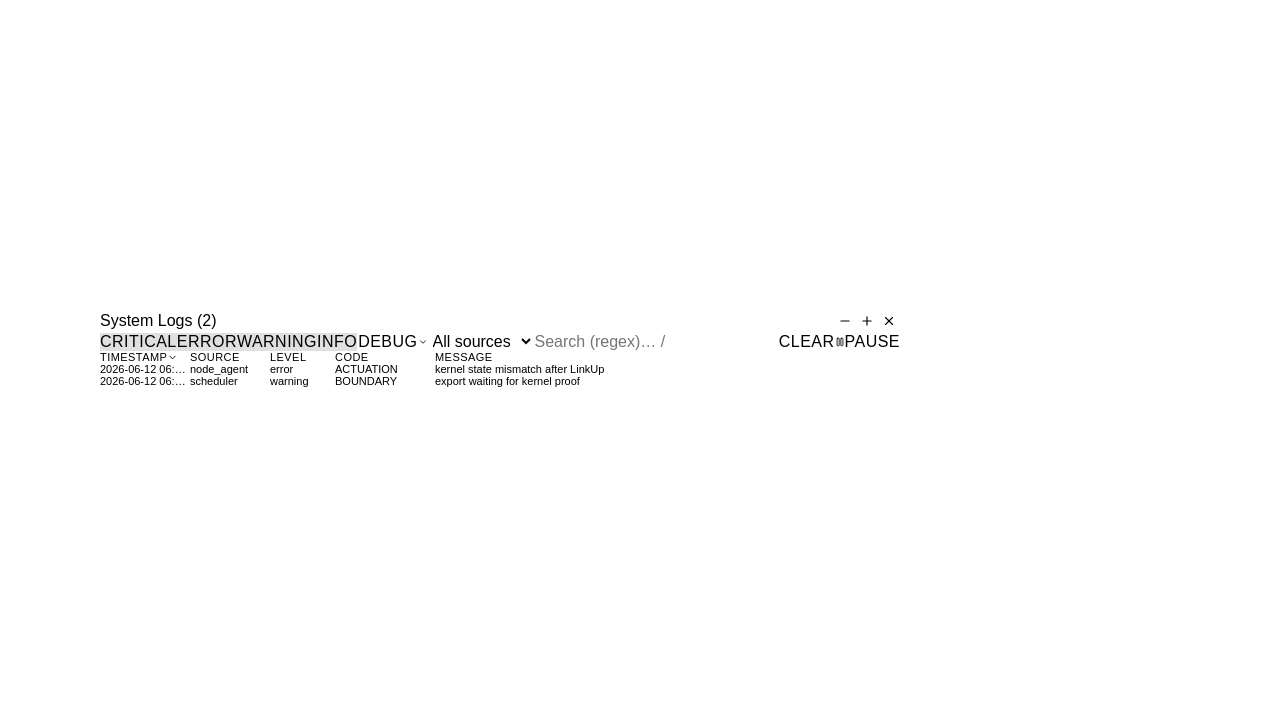
Scenario: LogPanel › regex search filters and flags invalid patterns
The image size is (1280, 720).
Type "ACTUATION" into the field with placeholder "Search (regex)… /" at point(620, 342), box [534,332,704,350]
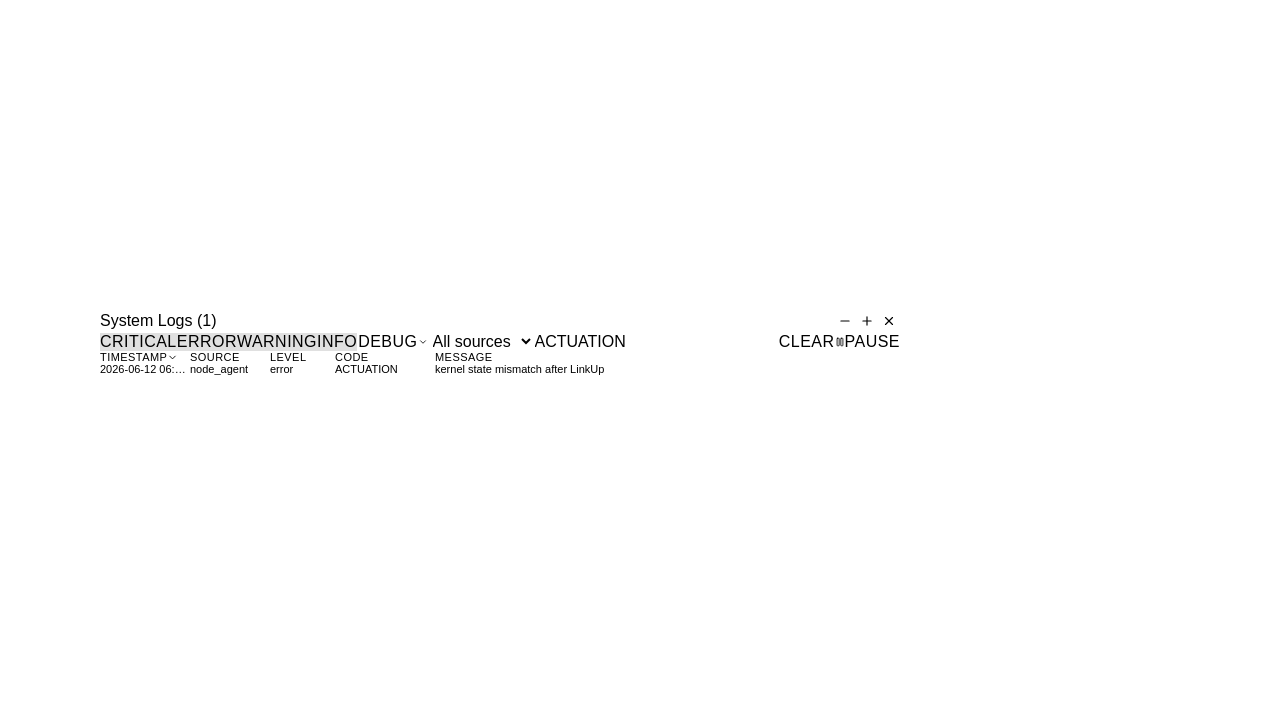
Expected: the text "export waiting" is gone
Replace the text in the field with placeholder "Search (regex)… /" with "[" at point(620, 342), box [534,332,704,350]
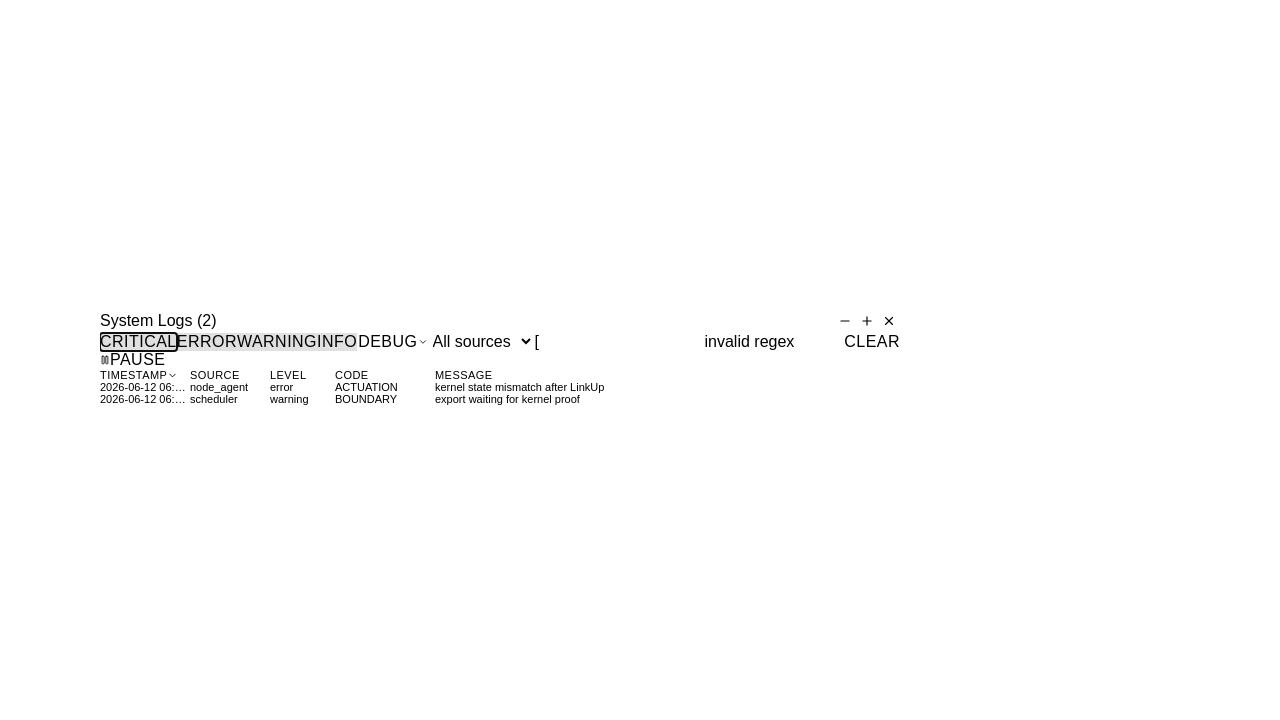
Expected: the text "invalid regex" is shown, [704,332,794,350]
